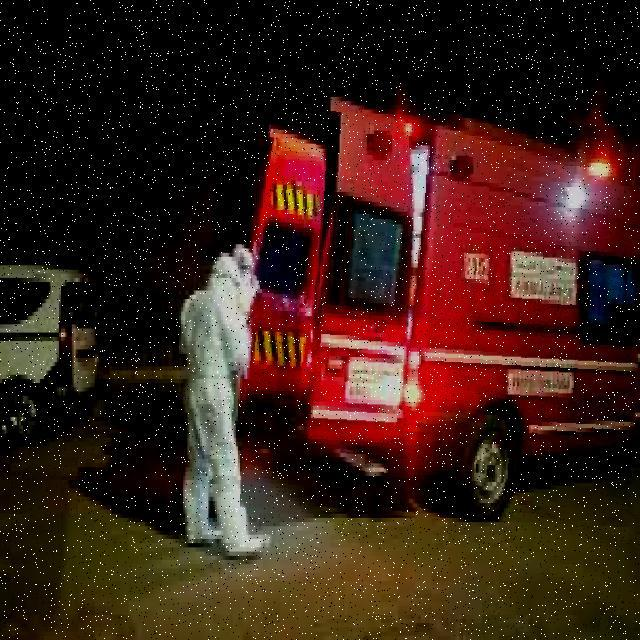ambulance: (245, 113, 640, 522)
